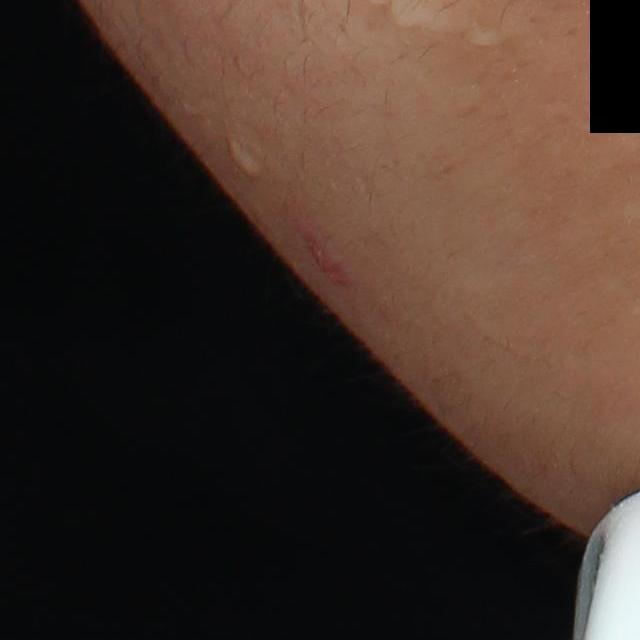papule: (302, 223, 354, 295)
